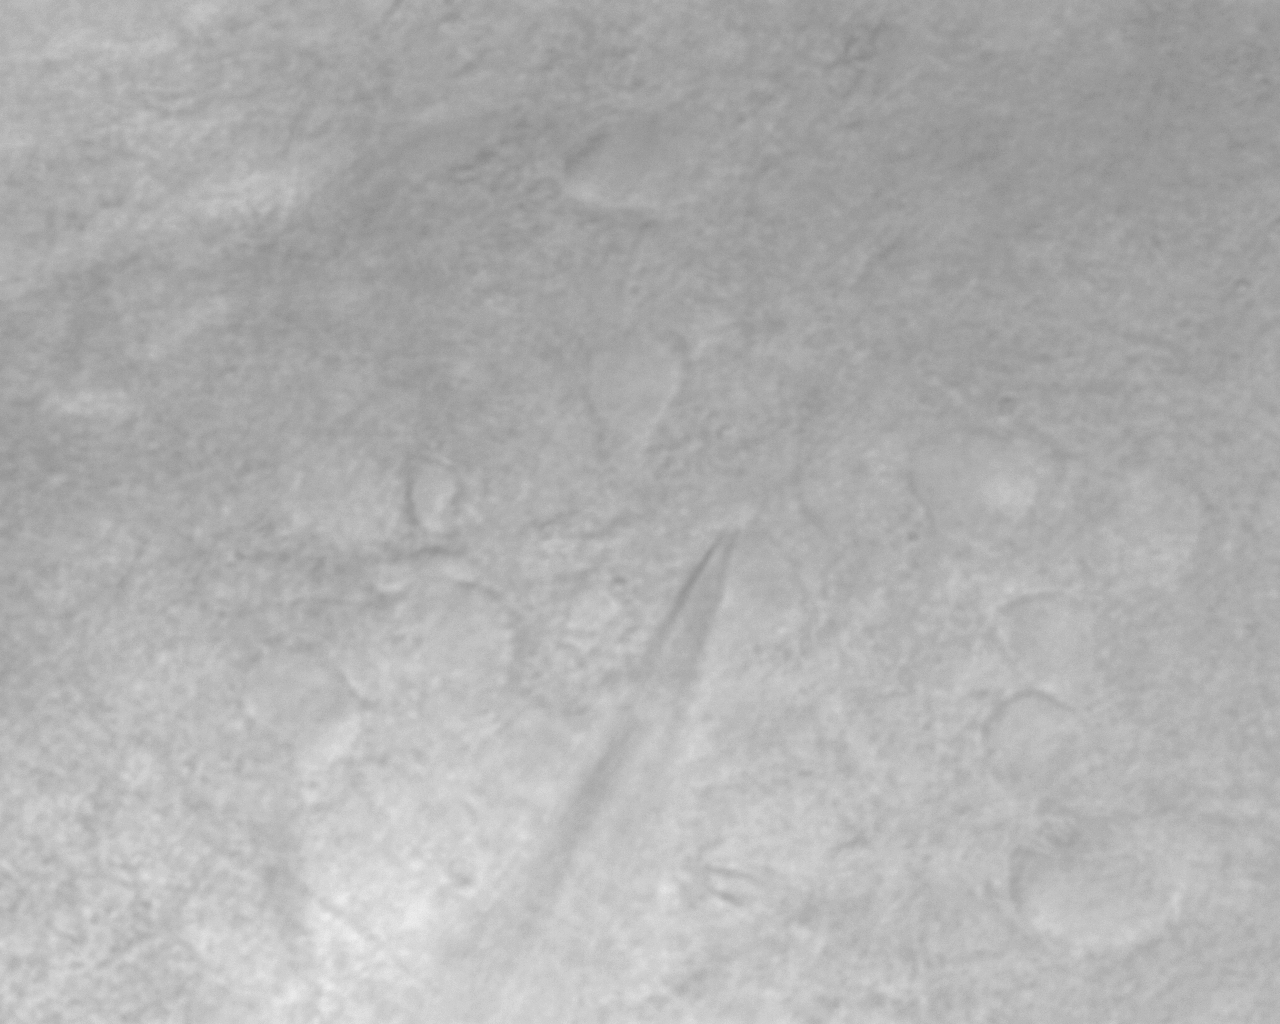neuron: (991, 809, 1225, 971), (887, 410, 1086, 567), (227, 635, 378, 788), (546, 111, 702, 230), (965, 680, 1110, 809), (708, 520, 833, 657), (568, 322, 695, 453), (976, 581, 1095, 688)
